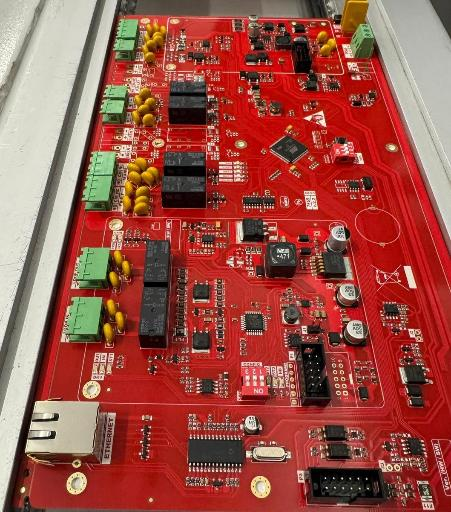var: (341, 0, 369, 34), (103, 323, 114, 344), (115, 311, 125, 332), (134, 202, 150, 215), (141, 171, 154, 187), (147, 167, 160, 183), (107, 299, 117, 319), (110, 271, 121, 289), (128, 171, 141, 186), (122, 260, 132, 279), (135, 157, 148, 171), (145, 97, 158, 111), (142, 113, 155, 127), (144, 39, 158, 52), (135, 186, 150, 198), (114, 250, 123, 269), (135, 195, 150, 206), (138, 104, 150, 117), (320, 44, 332, 57), (127, 163, 141, 174), (123, 195, 132, 212), (125, 181, 134, 198), (132, 110, 141, 126), (139, 88, 151, 100), (144, 52, 156, 63), (317, 31, 328, 43), (328, 37, 338, 50), (159, 25, 169, 37), (153, 23, 161, 31)
